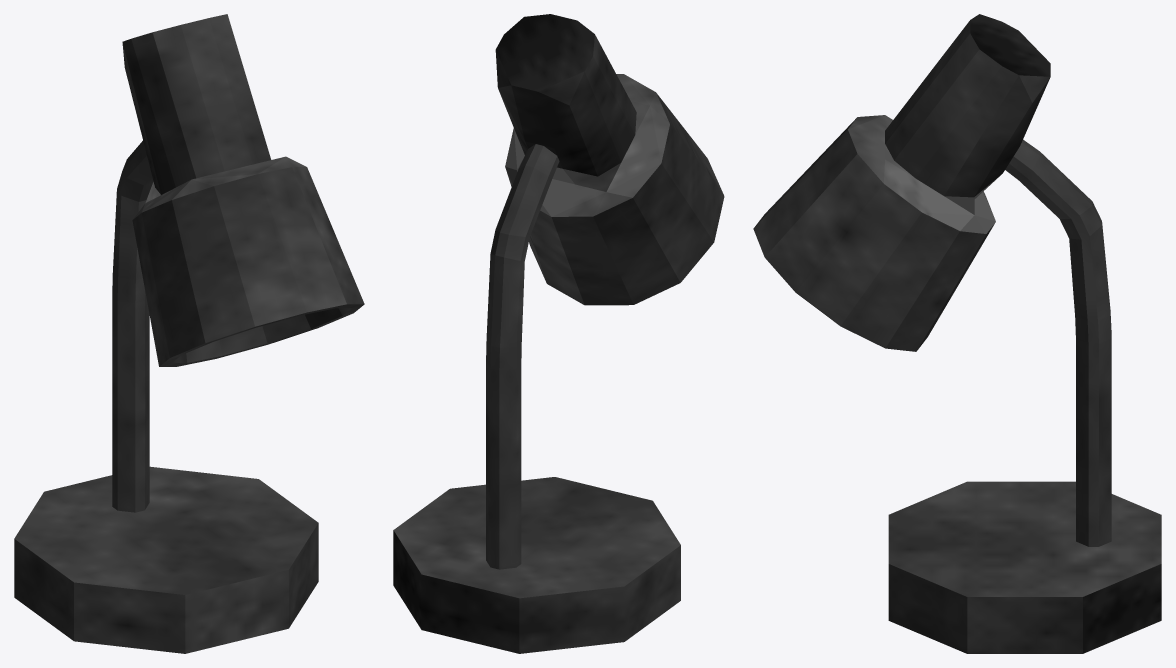
File: lamp_table.fbx
The picture shows the model from 3 angles, left to right: view 1: azimuth 30°, elevation 25°; view 2: azimuth 150°, elevation 25°; view 3: azimuth 270°, elevation 25°; orthographic projection. The views are drawn at different scales.
Visible parts, largest first — view 1: Lamp Table; view 2: Lamp Table; view 3: Lamp Table.
Boxes of the visible parts, box(x1,y1,x2,y2) form: Lamp Table: box(14, 14, 364, 653); Lamp Table: box(393, 14, 724, 653); Lamp Table: box(753, 14, 1161, 653).
Bounding box in the file's own units: 31.19 × 71.77 × 46.63.
